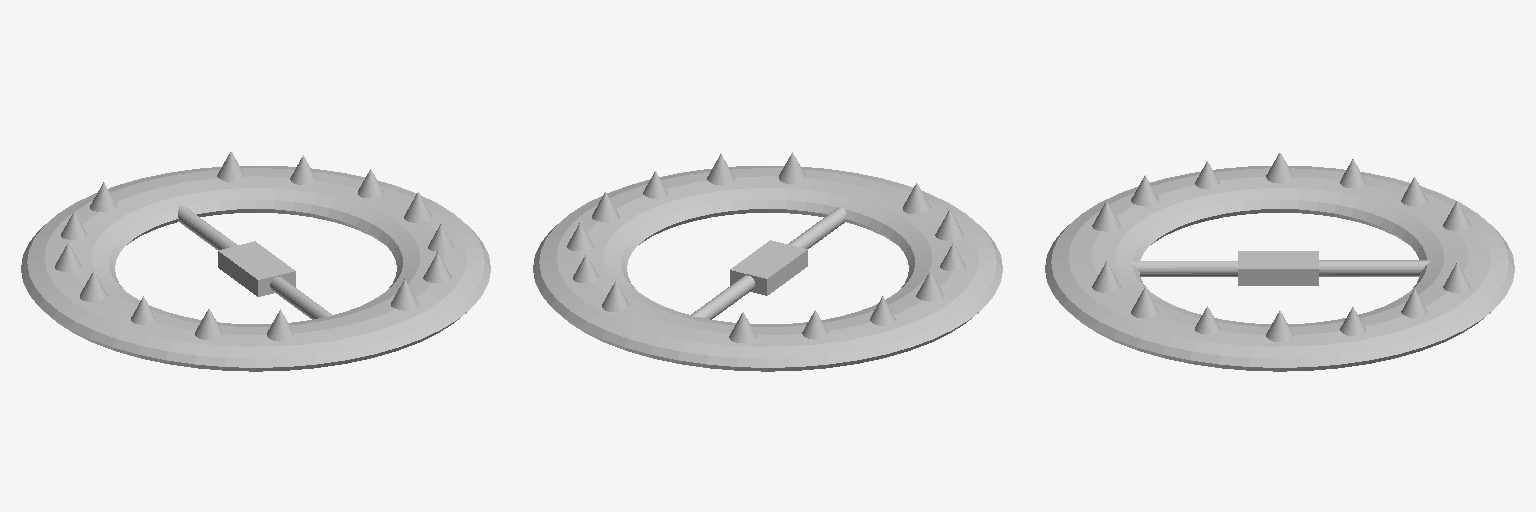
File: BearTrap.obj
3 views of the same model, side by side, from view 1: azimuth 30°, elevation 25°; view 2: azimuth 150°, elevation 25°; view 3: azimuth 270°, elevation 25° (orthographic).
Visible parts, largest first — view 1: Torus; view 2: Torus; view 3: Torus.
Boxes of the visible parts, <box> form: Torus: <box>21,152,490,371</box>; Torus: <box>533,152,1002,371</box>; Torus: <box>1045,153,1514,371</box>.
Size of the model in its own units: 2.5 by 0.2978 by 2.5.